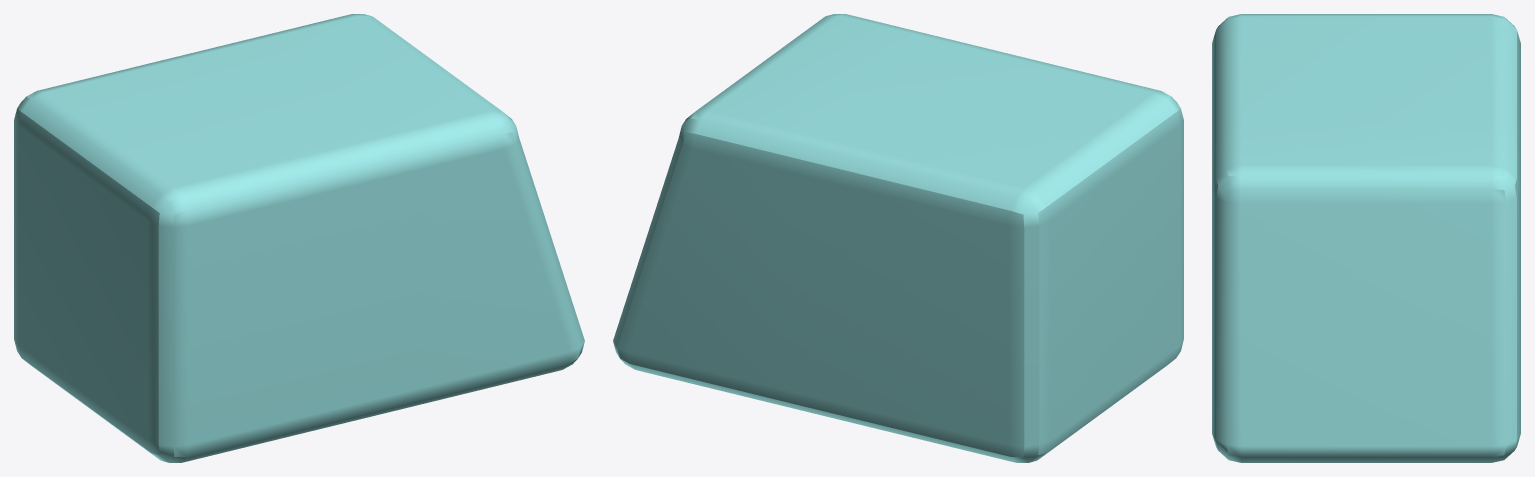
The model's file is Body(p2).fbx.
3 renders of one model, left to right at view 1: azimuth 30°, elevation 25°; view 2: azimuth 150°, elevation 25°; view 3: azimuth 270°, elevation 25°, orthographic. The views are drawn at different scales.
Parts seen in each view (by area): view 1: polySurface10; view 2: polySurface10; view 3: polySurface10.
Boxes of the visible parts, bbox=[...] form: polySurface10: bbox=[14, 14, 584, 462]; polySurface10: bbox=[613, 14, 1183, 462]; polySurface10: bbox=[1212, 14, 1520, 462].
Size of the model in its own units: 4.5 by 2.72 by 2.88.
